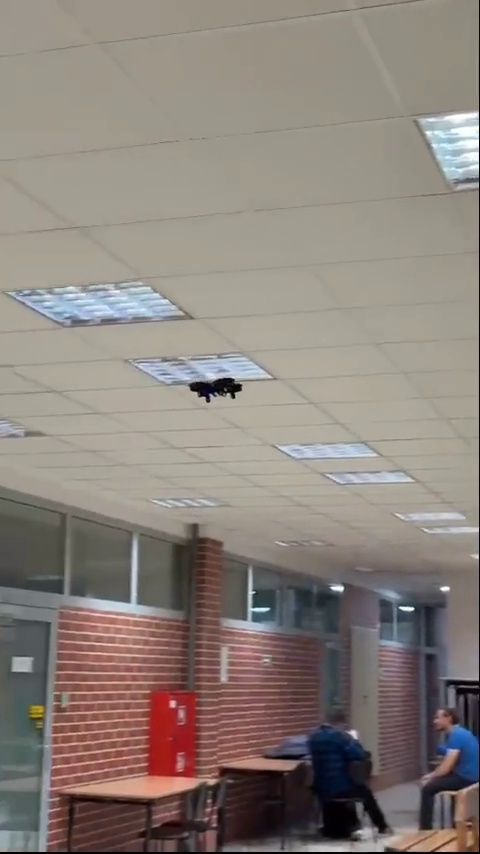drone: (189, 375, 241, 404)
no vest: (304, 704, 381, 805), (414, 703, 478, 801)
